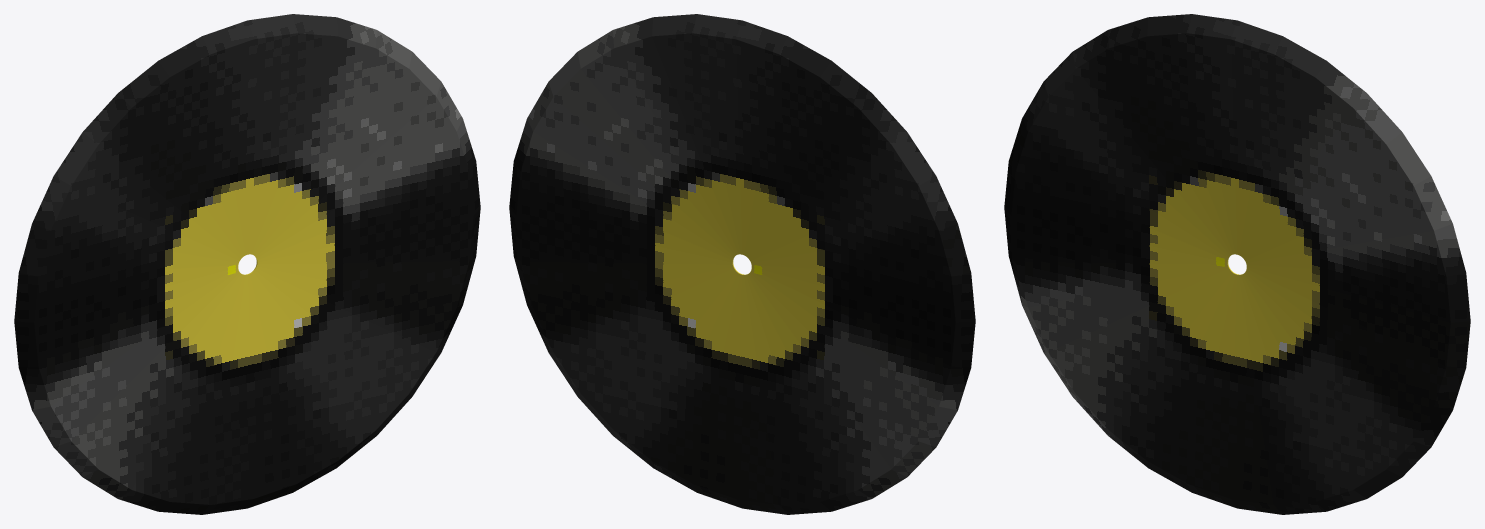
File: Record_Yellow.glb
3 renders of one model, left to right at view 1: azimuth 30°, elevation 25°; view 2: azimuth 150°, elevation 25°; view 3: azimuth 330°, elevation 25°, orthographic.
Visible parts, largest first — view 1: Cylinder.001; view 2: Cylinder.001; view 3: Cylinder.001.
Part boxes in pixels (x1,y1,x2,y2): Cylinder.001: [14, 14, 480, 514]; Cylinder.001: [509, 14, 975, 514]; Cylinder.001: [1004, 14, 1470, 514].
Size of the model in its own units: 2.12 by 2.12 by 0.1009.
1 material, 1 textured.
